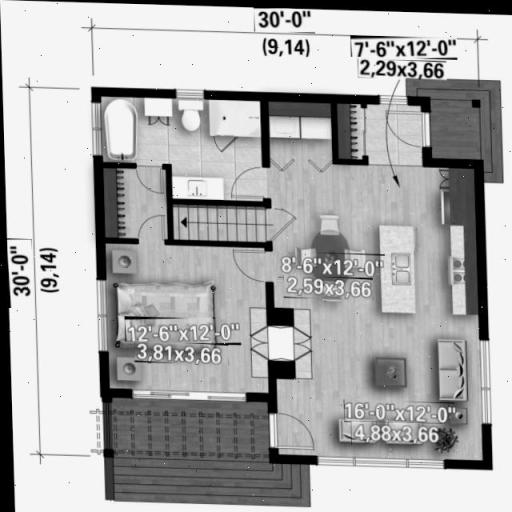bathroom: (97, 94, 276, 252)
bedroom: (101, 259, 263, 401)
hall: (286, 94, 489, 453)
